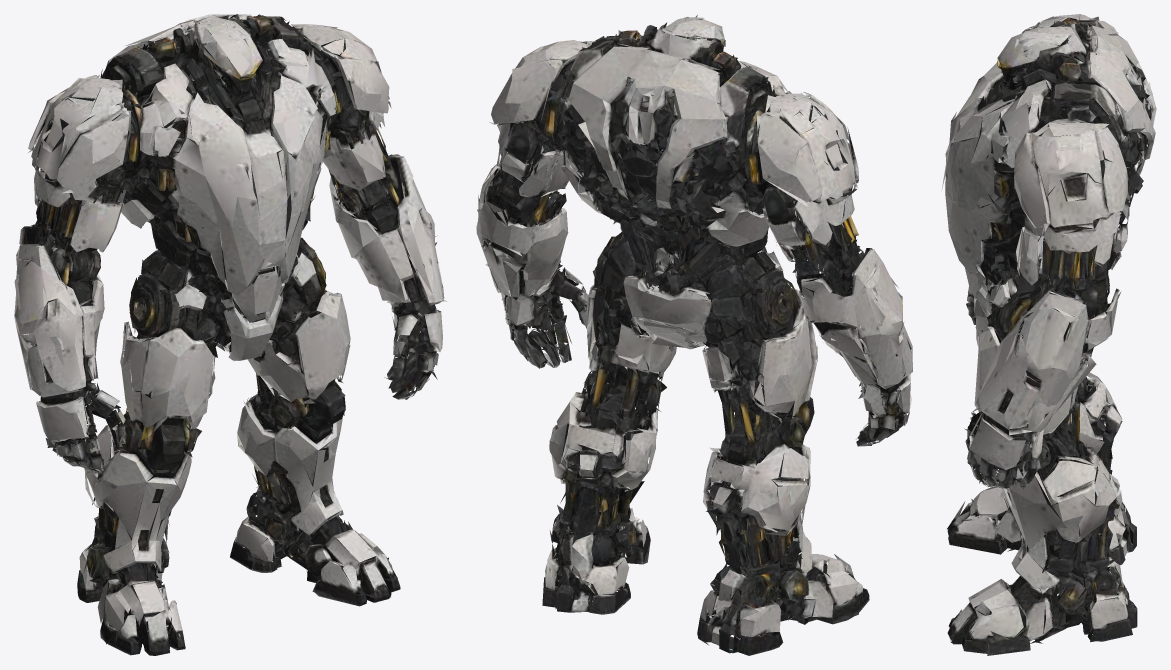
The model's file is nx-coloso-asalto.glb.
3 renders of one model, left to right at view 1: azimuth 30°, elevation 25°; view 2: azimuth 150°, elevation 25°; view 3: azimuth 270°, elevation 25°, orthographic. The views are drawn at different scales.
Visible parts, largest first — view 1: Mesh_0; view 2: Mesh_0; view 3: Mesh_0.
Boxes of the visible parts, box(x1,y1,x2,y2) form: Mesh_0: box(14, 14, 446, 655); Mesh_0: box(476, 14, 912, 655); Mesh_0: box(941, 14, 1156, 655).
Bounding box in the file's own units: 1.45 × 1.93 × 0.6681.
1 material, 1 textured.
